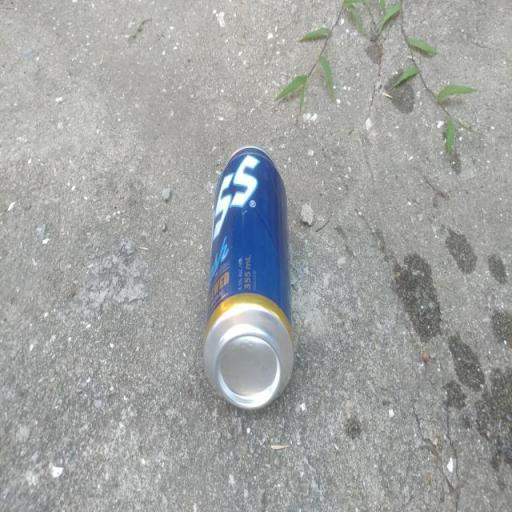metal: (200, 126, 303, 428)
